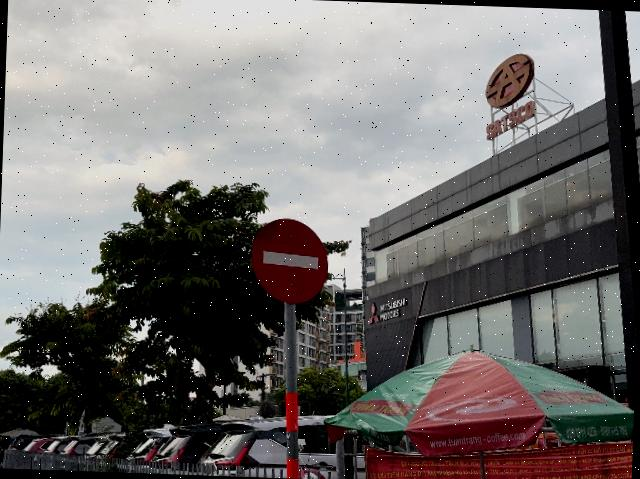cam-di-nguoc-chieu: (250, 217, 330, 305)
